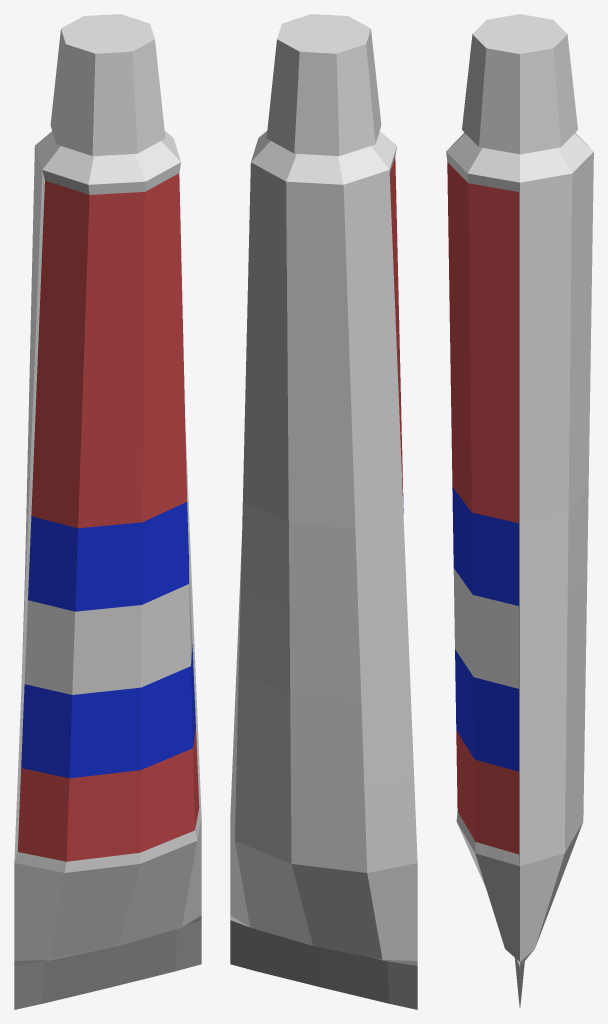
The model's file is Toothpaste.fbx.
3 views of the same model, side by side, from view 1: azimuth 30°, elevation 25°; view 2: azimuth 150°, elevation 25°; view 3: azimuth 270°, elevation 25° (orthographic). The views are drawn at different scales.
Visible parts, largest first — view 1: Toothpaste, Lid; view 2: Toothpaste, Lid; view 3: Toothpaste, Lid.
Boxes of the visible parts, x1,y1,x2,y2 form: Toothpaste: [14, 131, 201, 1009]; Lid: [50, 14, 165, 155]; Toothpaste: [230, 131, 417, 1009]; Lid: [266, 14, 381, 155]; Toothpaste: [446, 133, 593, 1007]; Lid: [462, 14, 577, 154].
Bounding box in the file's own units: 32 × 156 × 22.4.
